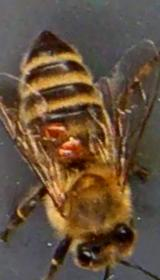varroa_mite: (54, 137, 90, 159), (44, 114, 74, 134)
